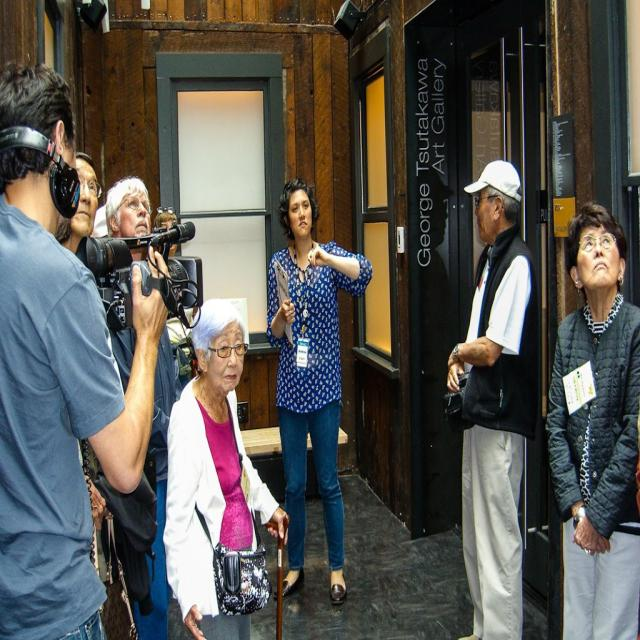body: (0, 53, 171, 639), (436, 155, 544, 639), (262, 173, 376, 612), (158, 294, 295, 639), (540, 197, 640, 639), (106, 177, 178, 640), (48, 150, 100, 256), (155, 206, 181, 262), (90, 205, 116, 242)
